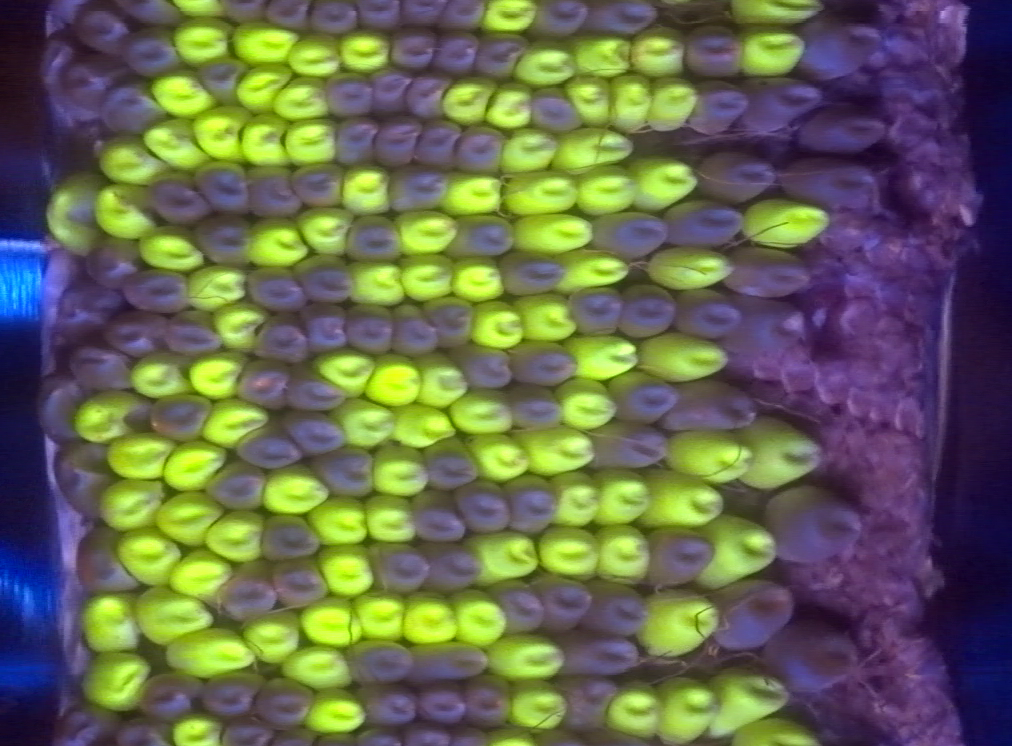fluorescent: (703, 513, 773, 585), (739, 428, 815, 489), (714, 674, 787, 736), (646, 593, 716, 655), (670, 429, 749, 482), (642, 473, 721, 523), (82, 650, 146, 708), (745, 200, 825, 246), (47, 176, 101, 244), (639, 339, 725, 380), (137, 591, 211, 637), (520, 426, 597, 469), (75, 395, 151, 438), (651, 247, 730, 287), (120, 538, 180, 589), (595, 527, 649, 583), (538, 527, 597, 578), (452, 595, 509, 645), (488, 636, 561, 675), (742, 29, 801, 76), (168, 636, 254, 668), (631, 162, 693, 206), (246, 221, 305, 267), (468, 534, 534, 575), (396, 210, 454, 256), (664, 688, 713, 742), (335, 403, 391, 450), (509, 680, 565, 727), (159, 498, 220, 541), (557, 379, 614, 425), (80, 596, 137, 642), (592, 472, 647, 519), (348, 259, 404, 305), (204, 403, 265, 445), (571, 339, 634, 379), (148, 120, 202, 166), (94, 188, 153, 230), (165, 445, 224, 487), (373, 444, 422, 494), (143, 229, 198, 273), (473, 434, 528, 478), (151, 74, 213, 112), (647, 78, 695, 127), (443, 78, 493, 125), (508, 175, 573, 211), (514, 296, 574, 335), (171, 554, 231, 593), (607, 692, 661, 735), (284, 651, 352, 685), (511, 220, 588, 250), (560, 255, 626, 290), (98, 486, 162, 522), (367, 359, 418, 404), (405, 596, 456, 641), (104, 137, 156, 181), (312, 502, 369, 542), (235, 22, 298, 58), (319, 548, 372, 590), (577, 173, 636, 210), (302, 604, 361, 641), (354, 596, 407, 637), (245, 617, 298, 658), (552, 476, 599, 522), (451, 399, 511, 435), (264, 473, 324, 509), (417, 356, 461, 405), (105, 436, 168, 470), (445, 173, 501, 211), (303, 697, 365, 731), (634, 32, 683, 75), (518, 46, 573, 84), (394, 411, 453, 446), (197, 115, 245, 158), (299, 213, 348, 255), (364, 497, 413, 539), (574, 36, 631, 72), (130, 359, 190, 393), (608, 82, 647, 134), (243, 119, 288, 164), (342, 168, 387, 213), (215, 308, 260, 352), (208, 515, 263, 551), (558, 131, 625, 160), (315, 354, 367, 391), (191, 271, 244, 307), (473, 305, 519, 346), (236, 67, 283, 107), (568, 76, 608, 122), (173, 25, 228, 57), (403, 261, 453, 296), (188, 361, 238, 396), (288, 37, 337, 72), (455, 263, 502, 299), (507, 129, 553, 165), (343, 33, 390, 68), (732, 3, 820, 21), (285, 125, 337, 155), (489, 88, 532, 122), (277, 85, 327, 114), (484, 3, 532, 31), (172, 714, 219, 742), (171, 1, 226, 18)
nonfluorescent: (763, 483, 867, 569), (764, 617, 858, 691), (714, 582, 793, 650), (801, 15, 880, 79), (737, 291, 811, 357), (783, 154, 881, 203), (675, 378, 757, 432), (725, 245, 810, 297), (645, 522, 712, 587), (591, 207, 668, 258), (54, 445, 107, 519), (701, 151, 777, 202), (197, 668, 267, 723), (560, 631, 640, 679), (802, 108, 893, 150), (746, 76, 814, 129), (685, 79, 749, 135), (72, 527, 125, 594), (420, 637, 491, 686), (673, 197, 741, 248), (587, 579, 651, 633), (607, 377, 678, 425), (195, 214, 260, 266), (220, 561, 274, 623), (503, 480, 561, 537), (64, 57, 118, 117), (61, 343, 133, 388), (55, 287, 112, 342), (568, 285, 628, 337), (672, 291, 737, 339), (69, 2, 130, 53), (245, 163, 300, 219), (687, 25, 746, 77), (507, 344, 580, 386), (148, 174, 207, 225), (269, 559, 328, 610), (374, 539, 428, 594), (213, 460, 269, 513), (137, 672, 202, 717), (596, 424, 662, 468), (410, 491, 467, 541), (497, 254, 563, 297), (348, 644, 417, 685), (120, 31, 180, 78), (586, 1, 660, 39), (355, 687, 423, 728), (541, 577, 596, 627), (450, 216, 517, 257), (531, 1, 593, 45), (261, 676, 311, 730), (239, 428, 302, 470), (320, 448, 374, 497), (428, 542, 483, 590), (260, 514, 321, 557), (346, 216, 403, 262), (163, 312, 220, 358), (560, 677, 611, 728), (126, 271, 191, 311), (392, 300, 436, 359), (148, 394, 208, 437), (288, 411, 348, 454), (493, 581, 543, 632), (109, 85, 158, 137), (199, 161, 247, 214), (428, 441, 482, 488), (459, 482, 505, 537), (39, 372, 74, 444), (507, 385, 564, 429), (624, 281, 671, 334), (193, 54, 241, 105), (450, 346, 508, 388), (109, 309, 163, 354), (86, 237, 137, 284), (57, 705, 115, 746), (260, 315, 309, 363), (235, 360, 284, 408), (297, 165, 348, 211), (431, 297, 477, 348), (350, 305, 395, 357), (393, 167, 450, 208), (304, 258, 351, 307), (416, 119, 462, 168), (327, 72, 371, 122), (37, 33, 73, 94), (467, 674, 510, 725), (528, 88, 580, 130), (334, 116, 378, 165), (248, 271, 306, 308), (461, 125, 503, 176), (480, 31, 524, 79), (283, 376, 338, 414), (306, 303, 349, 351), (368, 68, 408, 119), (378, 116, 417, 168), (405, 71, 446, 120), (115, 1, 182, 30), (391, 30, 436, 72), (417, 691, 467, 728), (436, 31, 480, 72), (307, 1, 360, 34), (439, 1, 489, 32), (218, 1, 267, 32), (398, 1, 451, 29), (265, 1, 311, 32), (356, 1, 399, 34), (114, 719, 164, 746), (221, 720, 272, 746), (401, 723, 451, 746), (449, 728, 491, 746), (364, 727, 402, 746), (276, 728, 315, 746)
